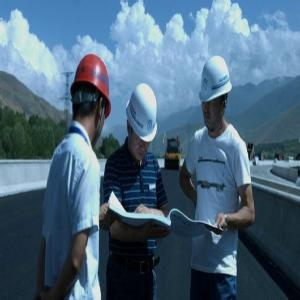red: (69, 49, 113, 145)
white: (125, 79, 159, 163), (199, 52, 231, 134)
